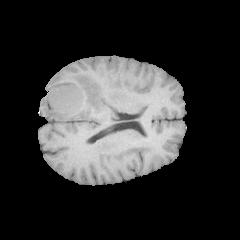glioma: (43, 73, 109, 120)
